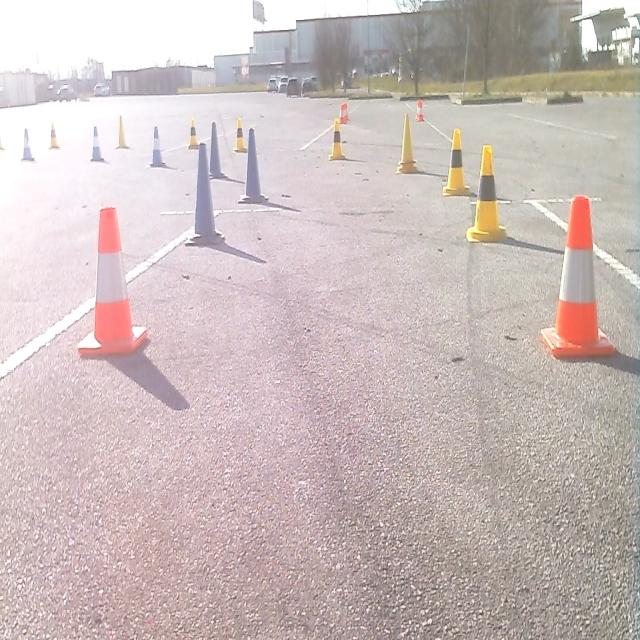blue_cone: (186, 144, 225, 246), (237, 128, 269, 205), (203, 120, 227, 178), (148, 126, 166, 169), (90, 125, 104, 163), (21, 128, 35, 161)
orange_cone: (539, 192, 616, 362), (77, 202, 149, 359), (338, 102, 350, 126), (415, 98, 424, 122)
yellow_cone: (466, 142, 507, 244), (442, 125, 471, 196), (396, 111, 418, 174), (328, 116, 345, 160), (232, 114, 248, 153), (115, 112, 129, 150), (188, 116, 199, 149), (49, 122, 60, 150)
